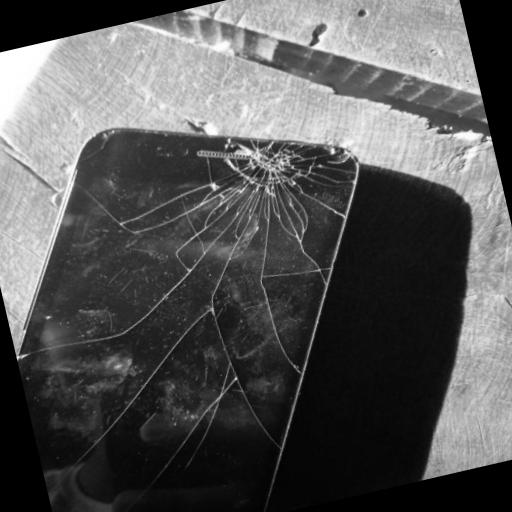phone: (16, 122, 369, 512)
